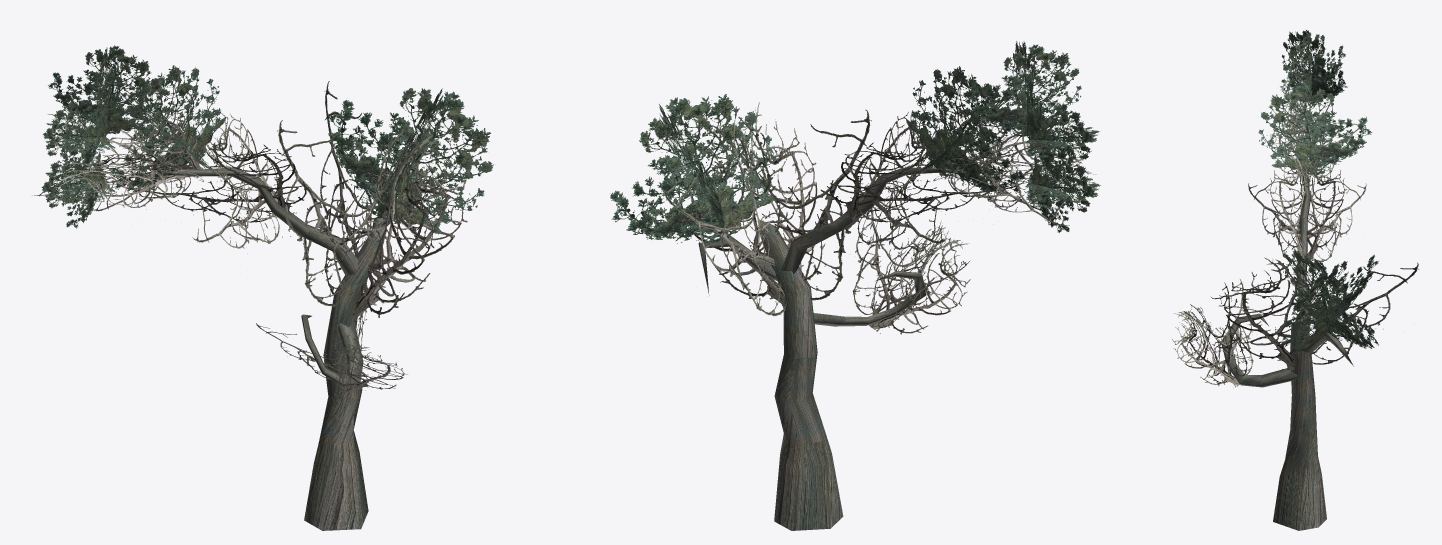
File: ever_torreypinetree_a1_l0.fbx
The picture shows the model from 3 angles, left to right: view 1: azimuth 30°, elevation 25°; view 2: azimuth 150°, elevation 25°; view 3: azimuth 270°, elevation 25°; orthographic projection. The views are drawn at different scales.
Visible parts, largest first — view 1: mesh_node; view 2: mesh_node; view 3: mesh_node.
Boxes of the visible parts, bbox=[...] form: mesh_node: bbox=[32, 45, 493, 530]; mesh_node: bbox=[610, 41, 1100, 530]; mesh_node: bbox=[1172, 30, 1419, 530].
Size of the model in its own units: 6.44 by 6.75 by 4.16.
